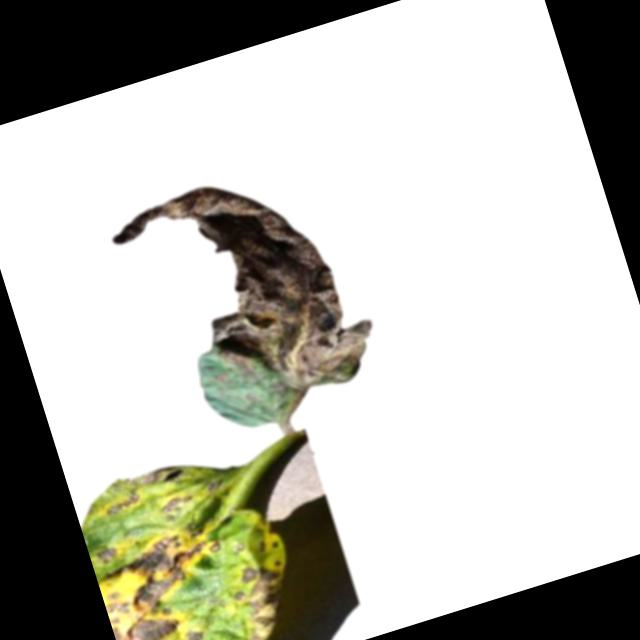Early_blight: (104, 153, 380, 435), (89, 511, 249, 640), (220, 559, 303, 640), (99, 464, 176, 518), (159, 491, 194, 517)
